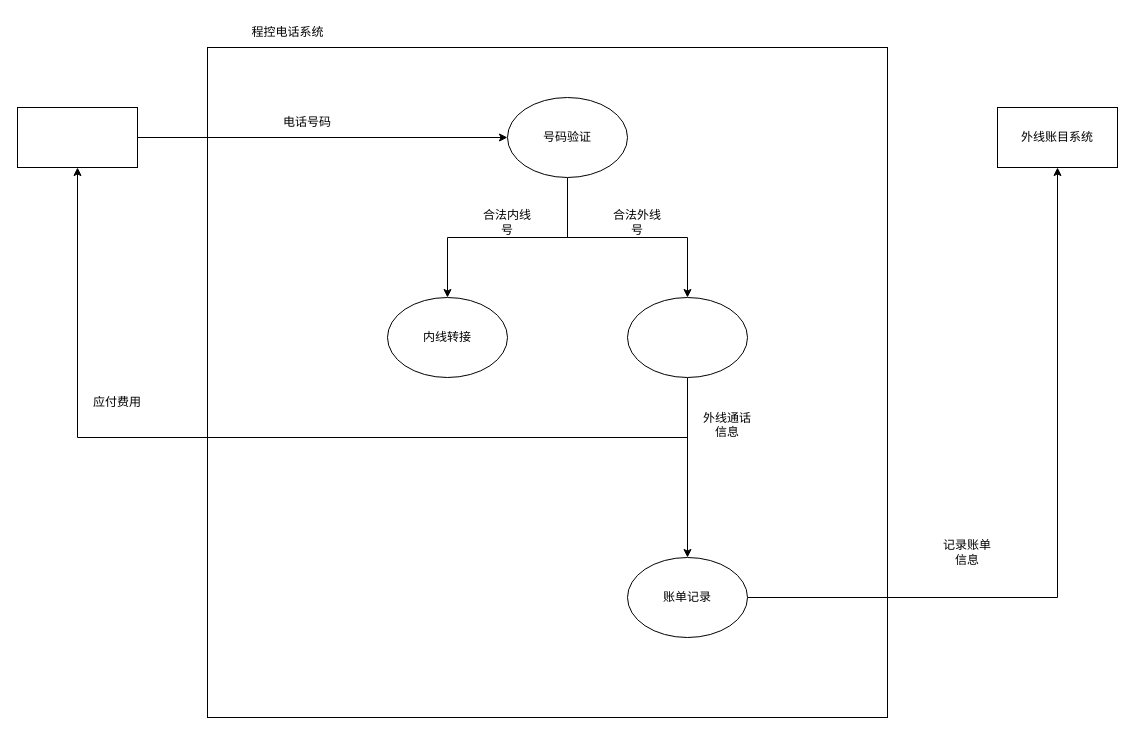
This 1135x735 diagram has some shape labels left out. Here are the shapes that lost their labels. From the top down, the centre of each, then its label:
At [77,137]: "用户".
At [687,337]: "外线转接".
